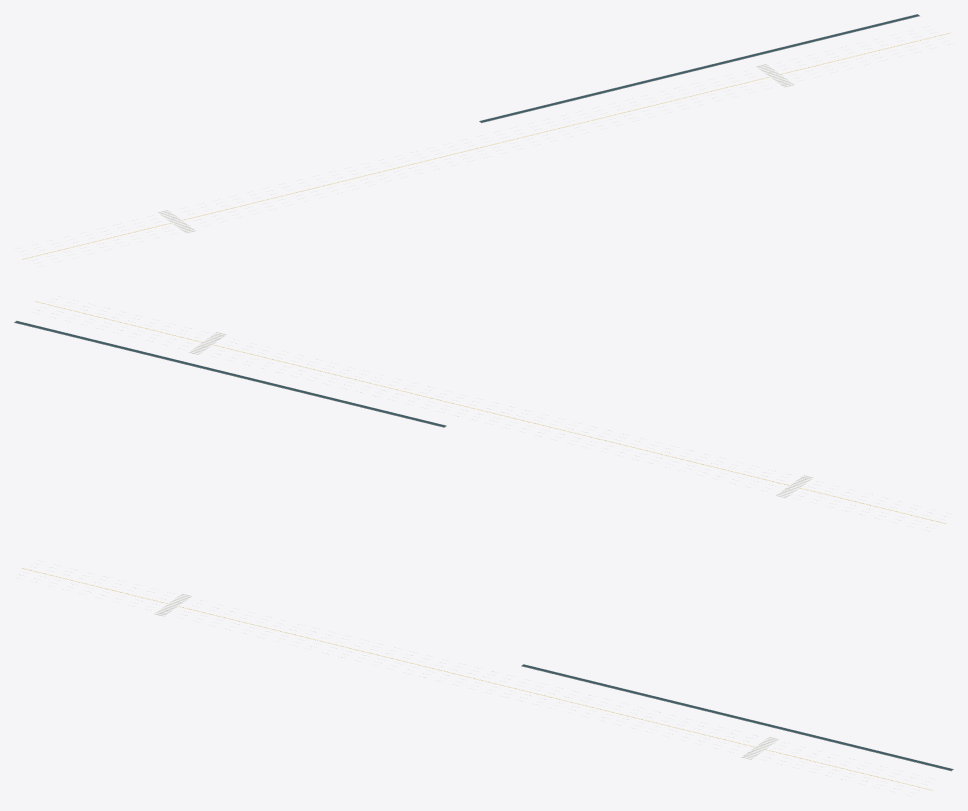
Rendered from 20261103-plaza-water-detail.glb.
The picture shows the model from 3 angles, top to bottom: view 1: azimuth 30°, elevation 25°; view 2: azimuth 150°, elevation 25°; view 3: azimuth 330°, elevation 25°; orthographic projection.
Visible parts, largest first — view 1: Surroundings - white lane markings, Surroundings - water channel edging, Surroundings - history water surface, Surroundings - divided carriageway lines, Surroundings - pedestrian crossings; view 2: Surroundings - white lane markings, Surroundings - water channel edging, Surroundings - history water surface, Surroundings - divided carriageway lines, Surroundings - pedestrian crossings; view 3: Surroundings - white lane markings, Surroundings - water channel edging, Surroundings - history water surface, Surroundings - divided carriageway lines, Surroundings - pedestrian crossings.
Boxes of the visible parts, x1,y1,x2,y2 form: Surroundings - white lane markings: (14, 26, 953, 266); Surroundings - water channel edging: (479, 14, 919, 122); Surroundings - history water surface: (480, 14, 918, 122); Surroundings - divided carriageway lines: (22, 32, 950, 259); Surroundings - pedestrian crossings: (158, 64, 794, 233); Surroundings - white lane markings: (32, 296, 951, 531); Surroundings - water channel edging: (14, 320, 446, 427); Surroundings - history water surface: (15, 321, 445, 426); Surroundings - divided carriageway lines: (35, 301, 945, 523); Surroundings - pedestrian crossings: (189, 332, 813, 498); Surroundings - white lane markings: (16, 560, 935, 795); Surroundings - water channel edging: (521, 664, 953, 771); Surroundings - history water surface: (522, 665, 952, 770); Surroundings - divided carriageway lines: (22, 568, 932, 790); Surroundings - pedestrian crossings: (154, 593, 778, 759).
Bounding box in the file's own units: 450 × 0.1 × 35.1.
